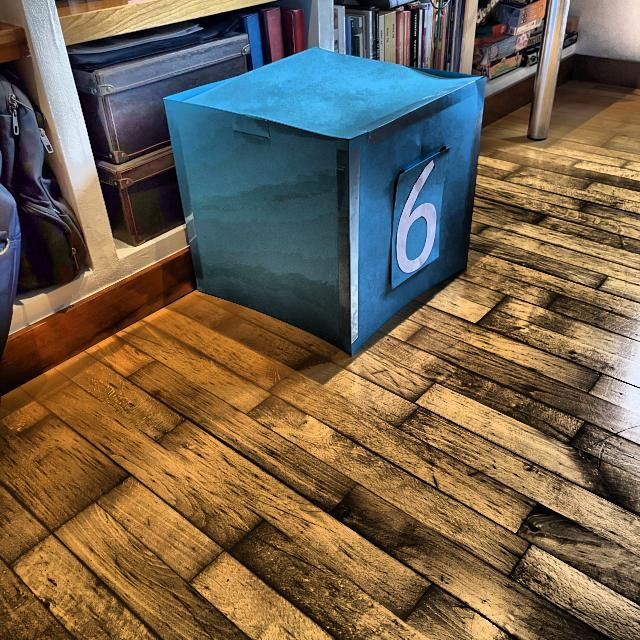blue box: (168, 48, 469, 351)
six: (395, 161, 443, 274)
